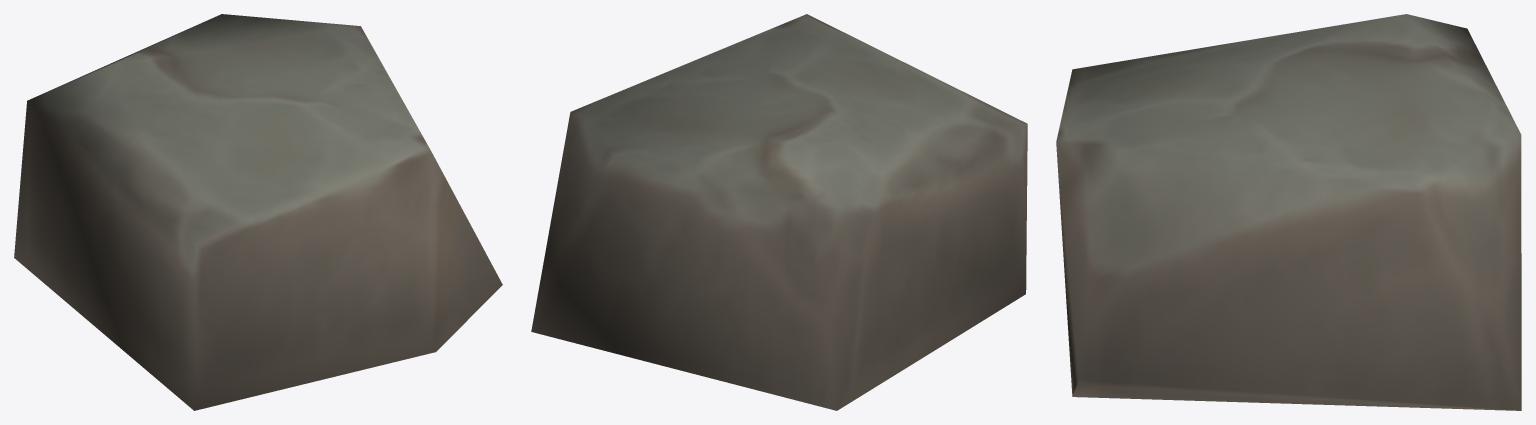
The model's file is SM_FW01_Floor_Debris_10.fbx.
3 renders of one model, left to right at view 1: azimuth 30°, elevation 25°; view 2: azimuth 150°, elevation 25°; view 3: azimuth 270°, elevation 25°, orthographic. The views are drawn at different scales.
Parts seen in each view (by area): view 1: SM_FW01_Floor_Debris_10; view 2: SM_FW01_Floor_Debris_10; view 3: SM_FW01_Floor_Debris_10.
Part boxes in pixels (left/top/right/bottom): SM_FW01_Floor_Debris_10: left=14, top=14, right=502, bottom=410; SM_FW01_Floor_Debris_10: left=531, top=14, right=1027, bottom=410; SM_FW01_Floor_Debris_10: left=1056, top=14, right=1521, bottom=410.
Bounding box in the file's own units: 0.3485 × 0.2476 × 0.3758.
